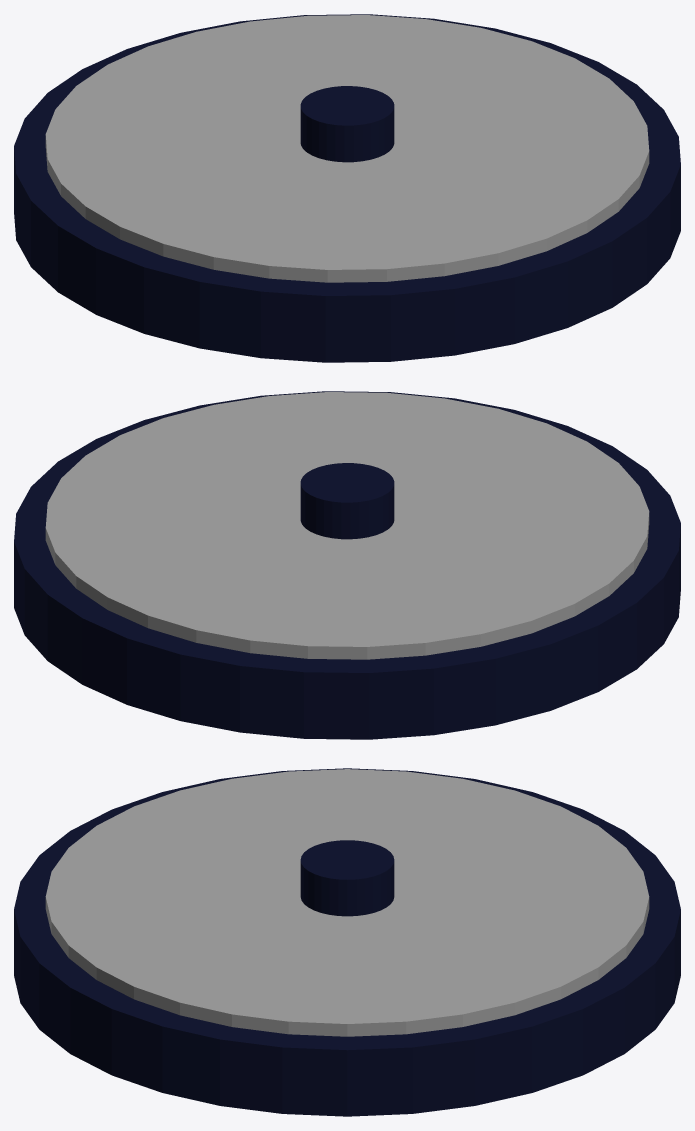
The model's file is compass face.obj.
The picture shows the model from 3 angles, top to bottom: view 1: azimuth 30°, elevation 25°; view 2: azimuth 150°, elevation 25°; view 3: azimuth 270°, elevation 25°; orthographic projection.
Parts seen in each view (by area): view 1: Cylinder, Cylinder.002, Cylinder.001; view 2: Cylinder, Cylinder.002, Cylinder.001; view 3: Cylinder, Cylinder.002, Cylinder.001.
Boxes of the visible parts, x1=… form: Cylinder: x1=45, y1=15, x2=649, y2=282; Cylinder.002: x1=14, y1=14, x2=680, y2=362; Cylinder.001: x1=300, y1=86, x2=394, y2=162; Cylinder: x1=45, y1=392, x2=649, y2=659; Cylinder.002: x1=14, y1=391, x2=680, y2=739; Cylinder.001: x1=300, y1=463, x2=394, y2=539; Cylinder: x1=45, y1=769, x2=649, y2=1036; Cylinder.002: x1=14, y1=768, x2=680, y2=1116; Cylinder.001: x1=300, y1=840, x2=394, y2=916.
Bounding box in the file's own units: 2.21 × 0.4231 × 2.21.
